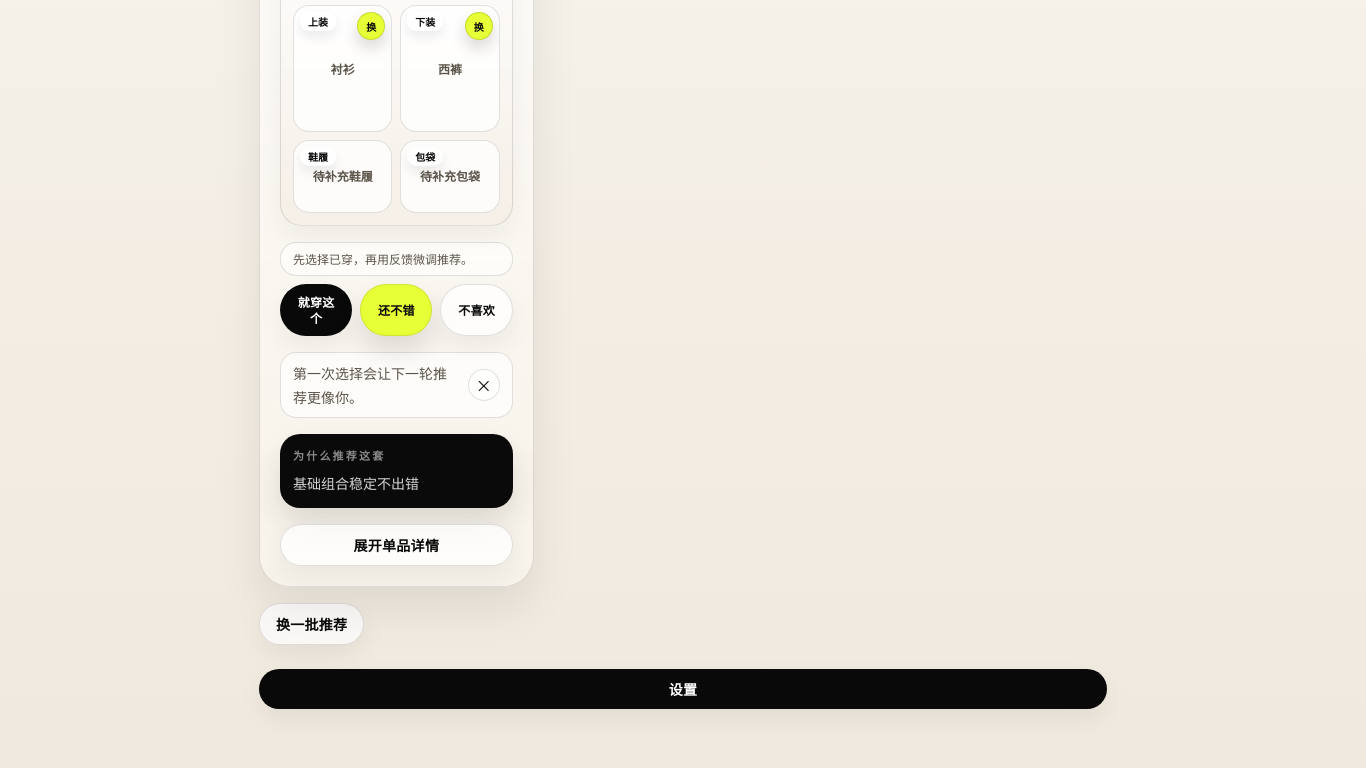
Test case: TodayPage › lets the user dismiss the inline first loop hint
(page scrolled)
Expected: the text "第一次选择会让下一轮推荐更像你。" is shown, left=293, top=361, right=456, bottom=409
What coordinates should you click on to do the following:
click the button named "关闭 first loop 提示"
I would click on:
 (484, 385)
Its box is left=468, top=369, right=500, bottom=401.
(page scrolled)
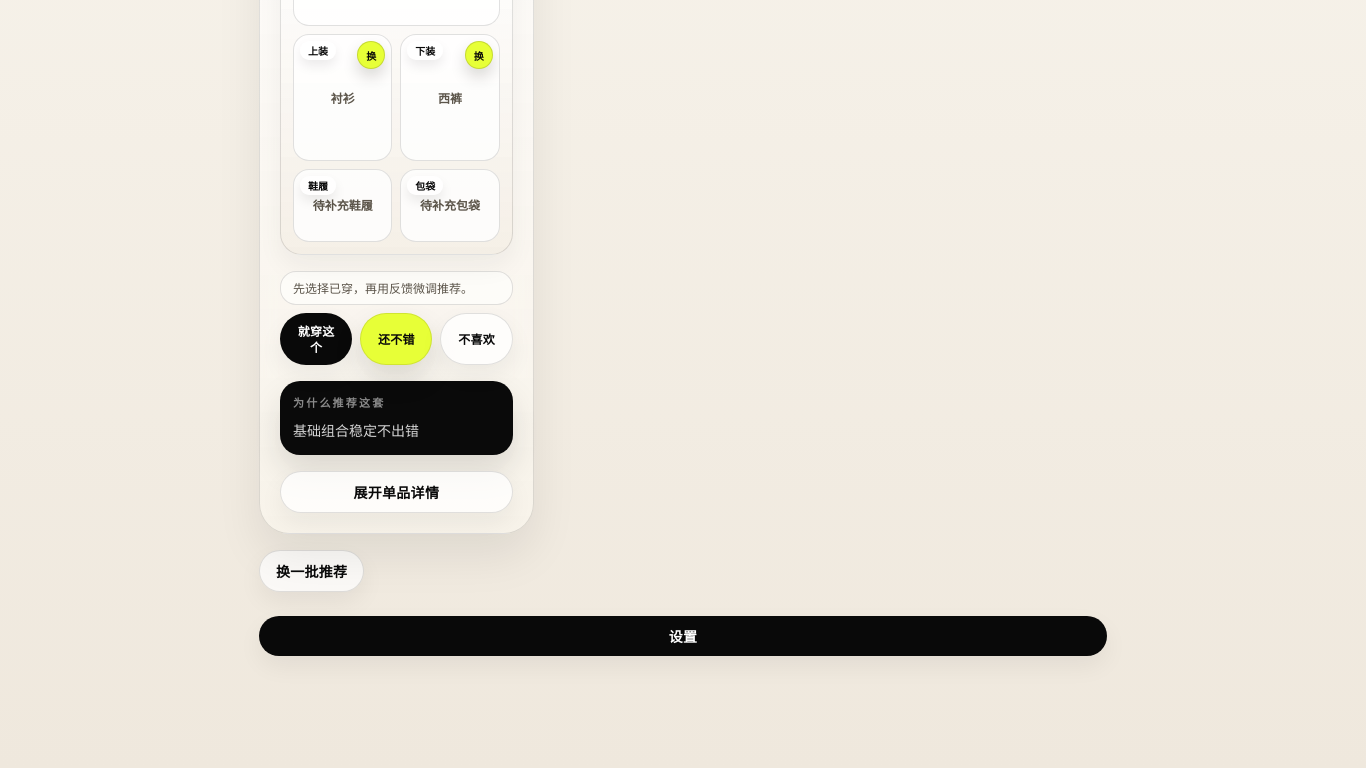
Expected: the text "第一次选择会让下一轮推荐更像你。" is gone
